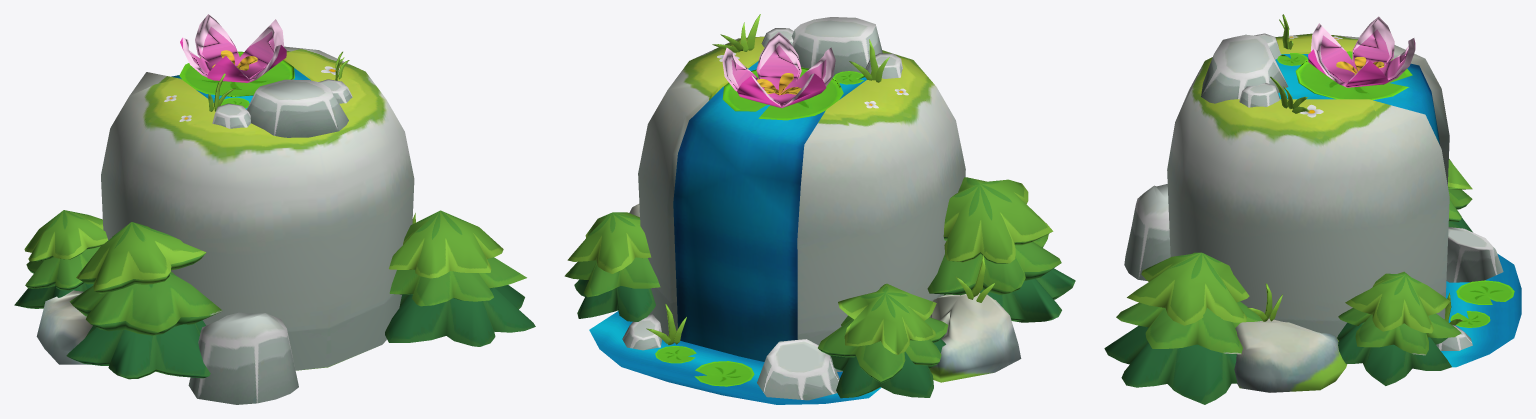
File: DownstreamOdysseyStatue.fbx
The picture shows the model from 3 angles, left to right: view 1: azimuth 30°, elevation 25°; view 2: azimuth 150°, elevation 25°; view 3: azimuth 270°, elevation 25°; orthographic projection. The views are drawn at different scales.
Parts seen in each view (by area): view 1: DownstreamGEO, Lilipad1; view 2: DownstreamGEO, Lilipad1, DownstreamBottomPond, Lilipad3, Lilipad2; view 3: DownstreamGEO, Lilipad1, DownstreamBottomPond, Lilipad3, Lilipad2.
Boxes of the visible parts, <box> form: DownstreamGEO: <box>14,46,535,404</box>; Lilipad1: <box>179,14,294,96</box>; DownstreamGEO: <box>564,14,1075,400</box>; Lilipad1: <box>722,32,843,120</box>; DownstreamBottomPond: <box>589,311,881,404</box>; Lilipad3: <box>694,361,754,386</box>; Lilipad2: <box>655,345,696,363</box>; DownstreamGEO: <box>1104,14,1503,404</box>; Lilipad1: <box>1295,16,1415,100</box>; DownstreamBottomPond: <box>1441,253,1521,367</box>; Lilipad3: <box>1456,280,1514,304</box>; Lilipad2: <box>1450,311,1490,327</box>.
Bounding box in the file's own units: 25.58 × 15.07 × 21.21.
